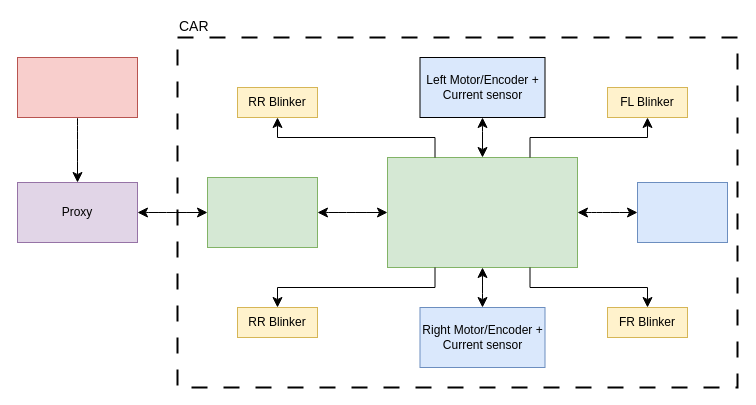
Image size: 756x405. Some labels were removed from this diagram. Here are the shapes that lost their labels. From the top down, the box of each, then its label:
(16, 56, 138, 118): Wheel/Pedals
(206, 176, 318, 248): Raspberry Pi
(386, 156, 578, 268): STM32
(636, 182, 728, 242): Servo + Current sensor
